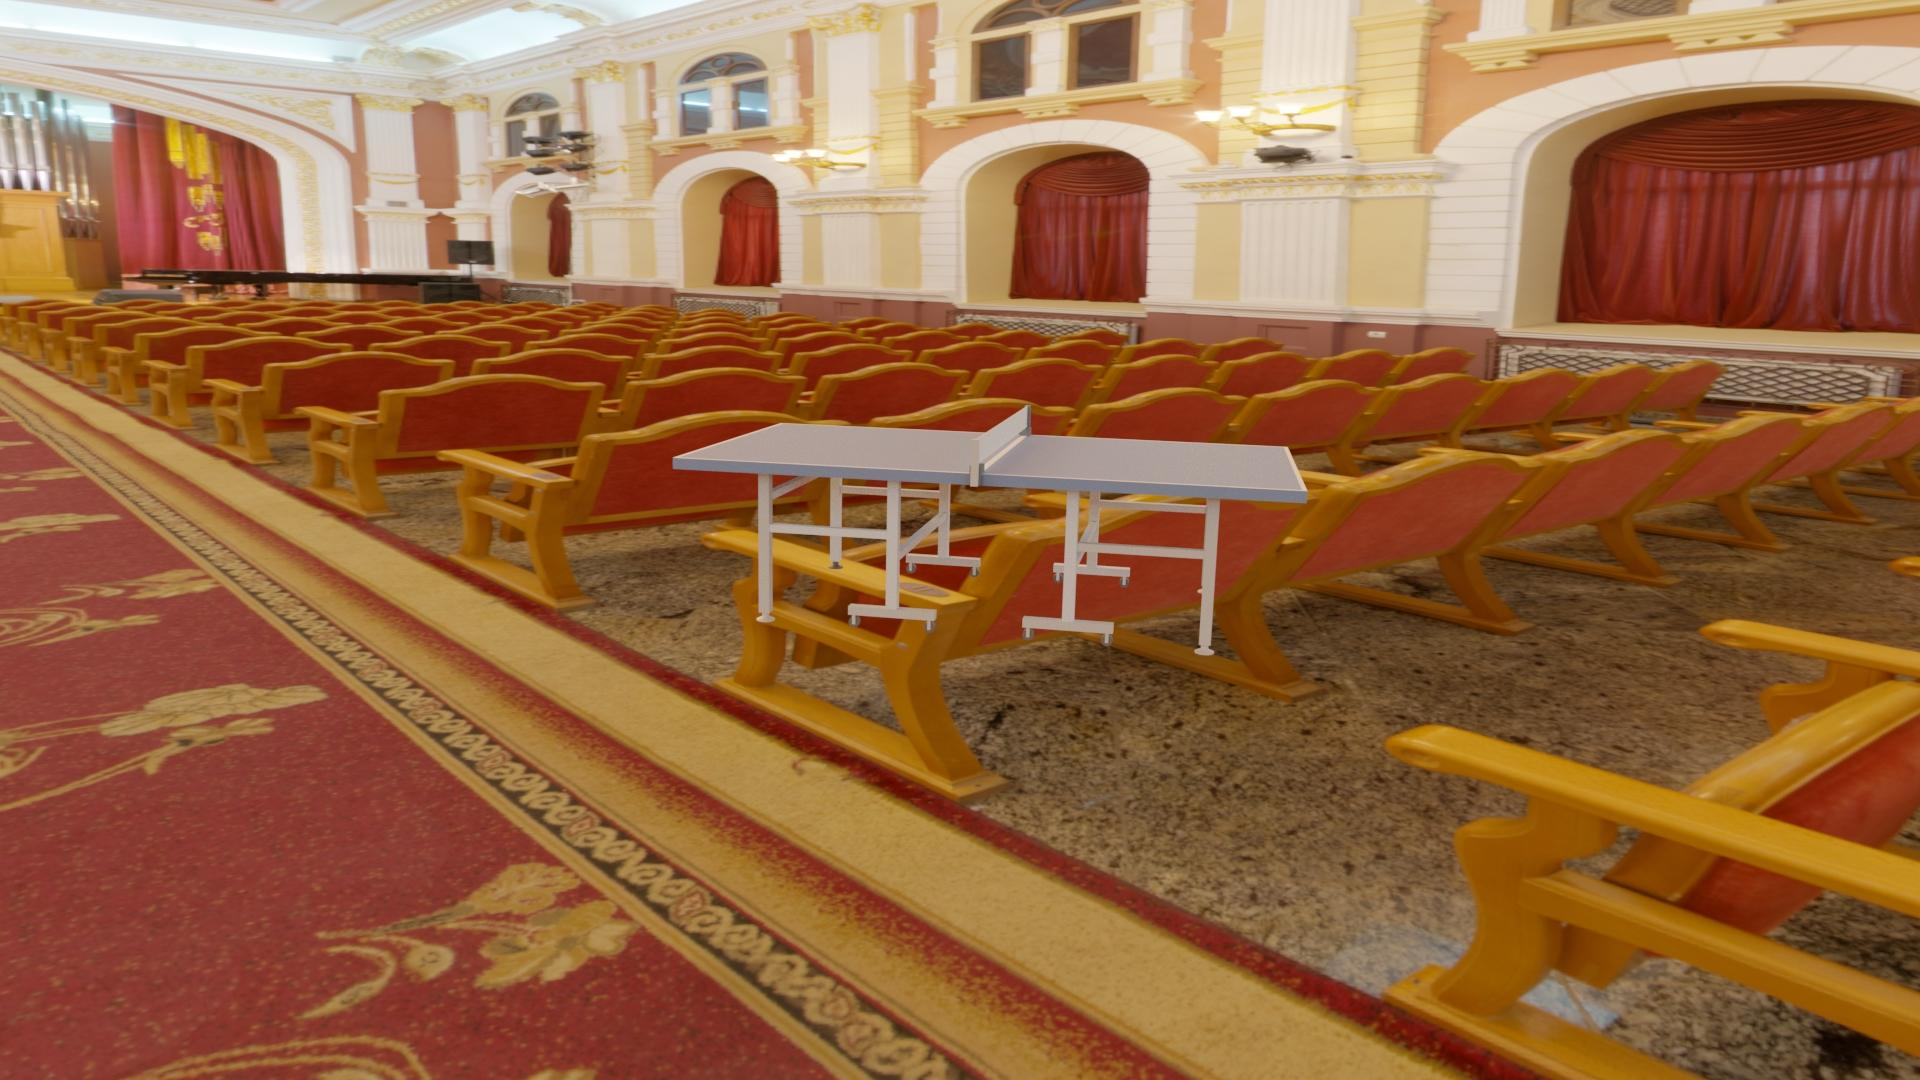table: (679, 423, 1302, 491)
